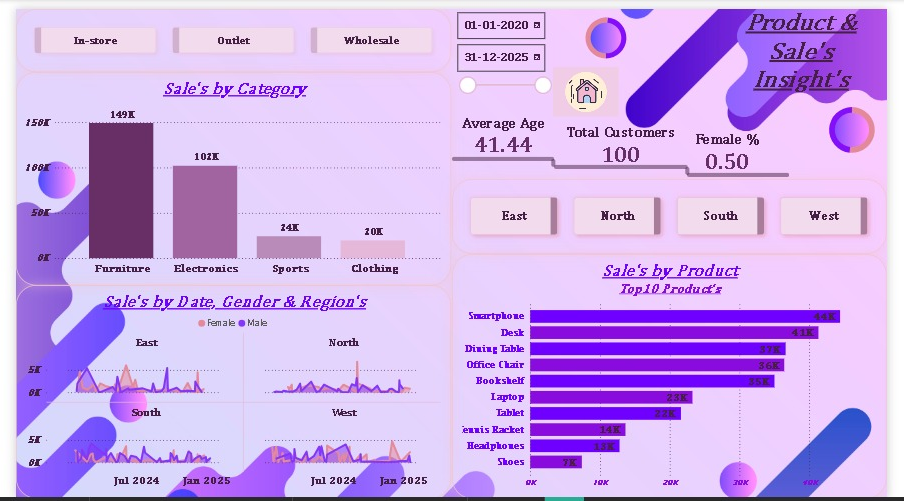

The dashboard page shown, as its layout file describes it:
{"tool":"powerbi","page":{"name":"Product & Sale's Insight's ","canvas":[1280,720],"ordinal":2},"visuals":[{"type":"textbox","title":"Product & Sale''s Insight''s","box":[1029.4,0,250.1,141.7],"z":0},{"type":"barChart","title":"Sale''s by Product ","fields":{"Category":["products.product_name"],"Y":["sales.Total Sales"]},"box":[640.5,360,639,360],"z":1000},{"type":"columnChart","title":"Sale''s by  Category","fields":{"Category":["products.category"],"Y":["sales.Total Sales"]},"box":[0,92.5,640.5,313.7],"z":2000},{"type":"cardVisual","fields":{"Data":["customers.Average Age"]},"box":[640.5,130.1,150.4,120],"z":3000},{"type":"donutChart","title":"Average Age by Gender ''s ","fields":{"Category":["customers.Gender"],"Y":["customers.Average Age"]},"box":[819.8,0,96.9,85.3],"z":4000},{"type":"lineChart","title":"Sale''s by Date, Gender & Region''s ","fields":{"Category":["Calendar.Date"],"Y":["sales.Total Sales"],"Series":["customers.Gender"],"Rows":["sales.region"]},"box":[0,406.3,640.5,313.7],"z":5000},{"type":"pieChart","title":"Average Age by Gender ''s ","fields":{"Category":["customers.Gender"],"Y":["customers.Average Age"]},"box":[1183,130.1,94,96.9],"z":6000},{"type":"advancedSlicerVisual","fields":{"Values":["sales.Channel"]},"box":[0,0,640.5,92.5],"z":7000},{"type":"advancedSlicerVisual","fields":{"Values":["sales.region"]},"box":[640.5,250.1,639,109.9],"z":8000},{"type":"cardVisual","fields":{"Data":["customers.Female %"]},"box":[987.5,172,118.6,85.3],"z":9000},{"type":"slicer","fields":{"Values":["Calendar.Date"]},"box":[640.5,0,150.4,130.1],"z":10000},{"type":"cardVisual","fields":{"Data":["customers.Total Customers"]},"box":[790.8,159,196.6,91.1],"z":11000},{"type":"shape","box":[640.5,215.4,150.4,11.6],"z":12000},{"type":"shape","box":[987.5,238.6,150.4,11.6],"z":13000},{"type":"shape","box":[790.8,227,196.6,11.6],"z":14000},{"type":"shape","box":[774.9,221.2,30.4,11.6],"z":15000},{"type":"shape","box":[971.6,232.8,30.4,11.6],"z":16000},{"type":"actionButton","box":[790,85,96.7,73.3],"z":17000}]}

Visuals, with their boxes in screenshot pixels (x1, y1, x2, y2), scaled from the page's 1280x720 canvas onto the 904x501 screenshot:
"Product & Sale''s Insight''s" textbox: {"left": 727, "top": 0, "right": 903, "bottom": 99}
"Sale''s by Product " barChart: {"left": 452, "top": 250, "right": 903, "bottom": 500}
"Sale''s by  Category" columnChart: {"left": 0, "top": 64, "right": 452, "bottom": 283}
cardVisual - customers.Average Age: {"left": 452, "top": 91, "right": 559, "bottom": 174}
"Average Age by Gender ''s " donutChart: {"left": 579, "top": 0, "right": 647, "bottom": 59}
"Sale''s by Date, Gender & Region''s " lineChart: {"left": 0, "top": 283, "right": 452, "bottom": 500}
"Average Age by Gender ''s " pieChart: {"left": 835, "top": 91, "right": 902, "bottom": 158}
advancedSlicerVisual - sales.Channel: {"left": 0, "top": 0, "right": 452, "bottom": 64}
advancedSlicerVisual - sales.region: {"left": 452, "top": 174, "right": 903, "bottom": 250}
cardVisual - customers.Female %: {"left": 697, "top": 120, "right": 781, "bottom": 179}
slicer - Calendar.Date: {"left": 452, "top": 0, "right": 559, "bottom": 91}
cardVisual - customers.Total Customers: {"left": 559, "top": 111, "right": 697, "bottom": 174}
shape: {"left": 452, "top": 150, "right": 559, "bottom": 158}
shape: {"left": 697, "top": 166, "right": 804, "bottom": 174}
shape: {"left": 559, "top": 158, "right": 697, "bottom": 166}
shape: {"left": 547, "top": 154, "right": 569, "bottom": 162}
shape: {"left": 686, "top": 162, "right": 708, "bottom": 170}
actionButton: {"left": 558, "top": 59, "right": 626, "bottom": 110}
